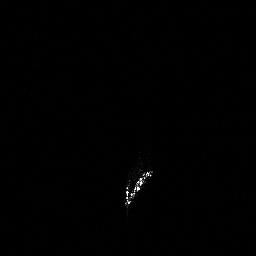ship: (120, 166, 156, 212)
